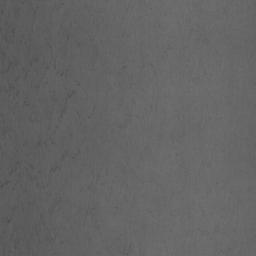Silk spot: (58, 90, 76, 121), (0, 80, 20, 99), (0, 60, 18, 74), (48, 162, 61, 176), (9, 161, 20, 176), (56, 69, 69, 78), (37, 136, 47, 147), (0, 180, 11, 188), (61, 151, 68, 161)
